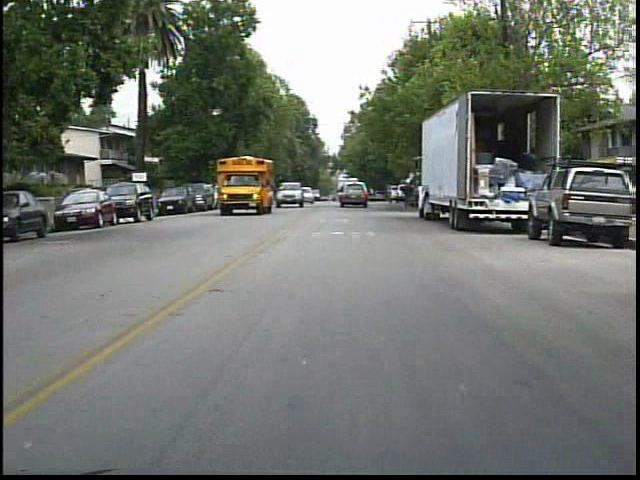person: (399, 175, 419, 219)
